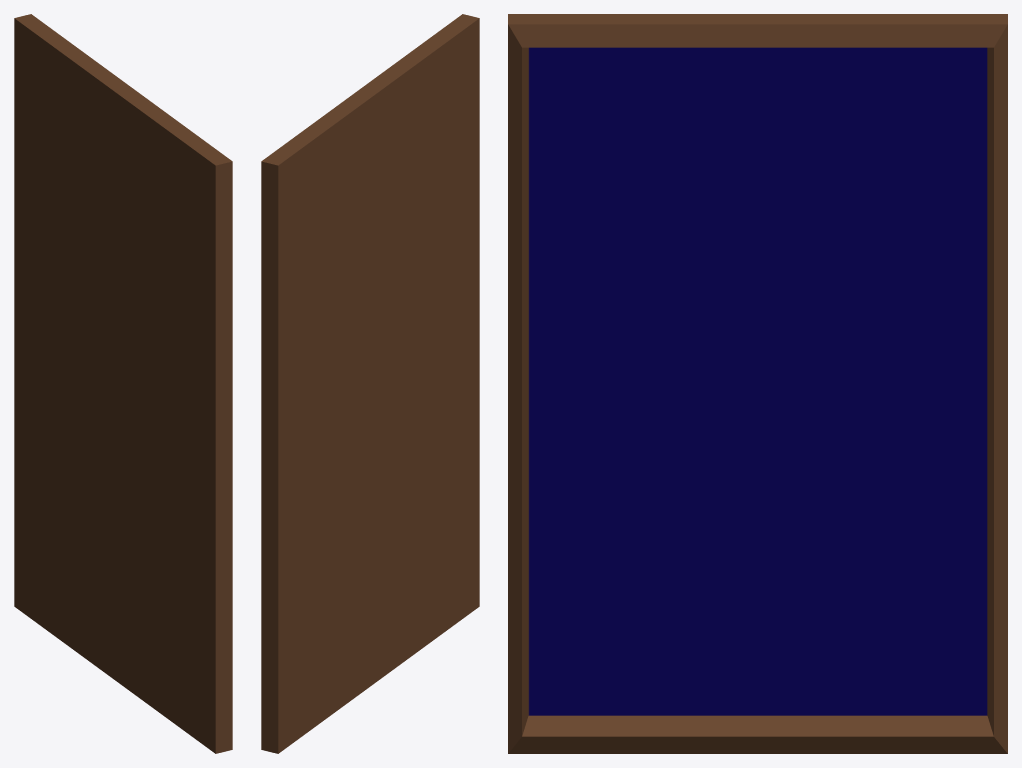
The model's file is Poster.fbx.
3 views of the same model, side by side, from view 1: azimuth 30°, elevation 25°; view 2: azimuth 150°, elevation 25°; view 3: azimuth 270°, elevation 25° (orthographic). The views are drawn at different scales.
Visible parts, largest first — view 1: Poster; view 2: Poster; view 3: Poster.
Boxes of the visible parts, bbox=[...] form: Poster: bbox=[14, 14, 232, 753]; Poster: bbox=[261, 14, 479, 753]; Poster: bbox=[508, 14, 1007, 753].
Bounding box in the file's own units: 6.33 × 161 × 100.
